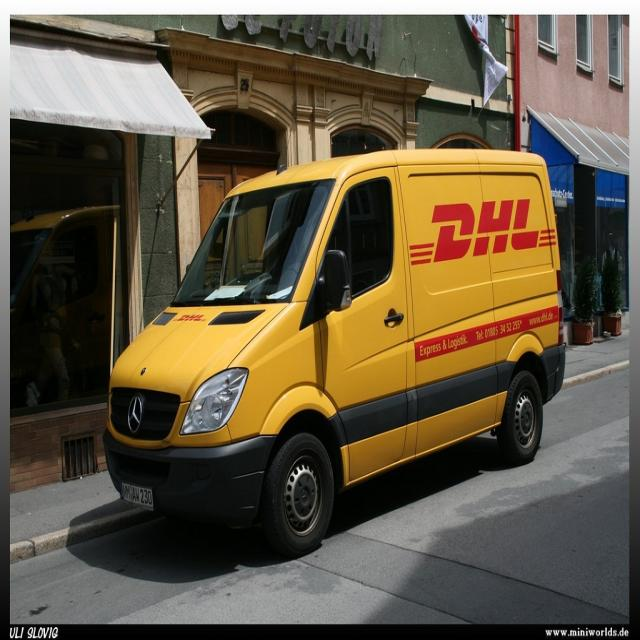dhl: (406, 198, 559, 269), (174, 314, 209, 325)
